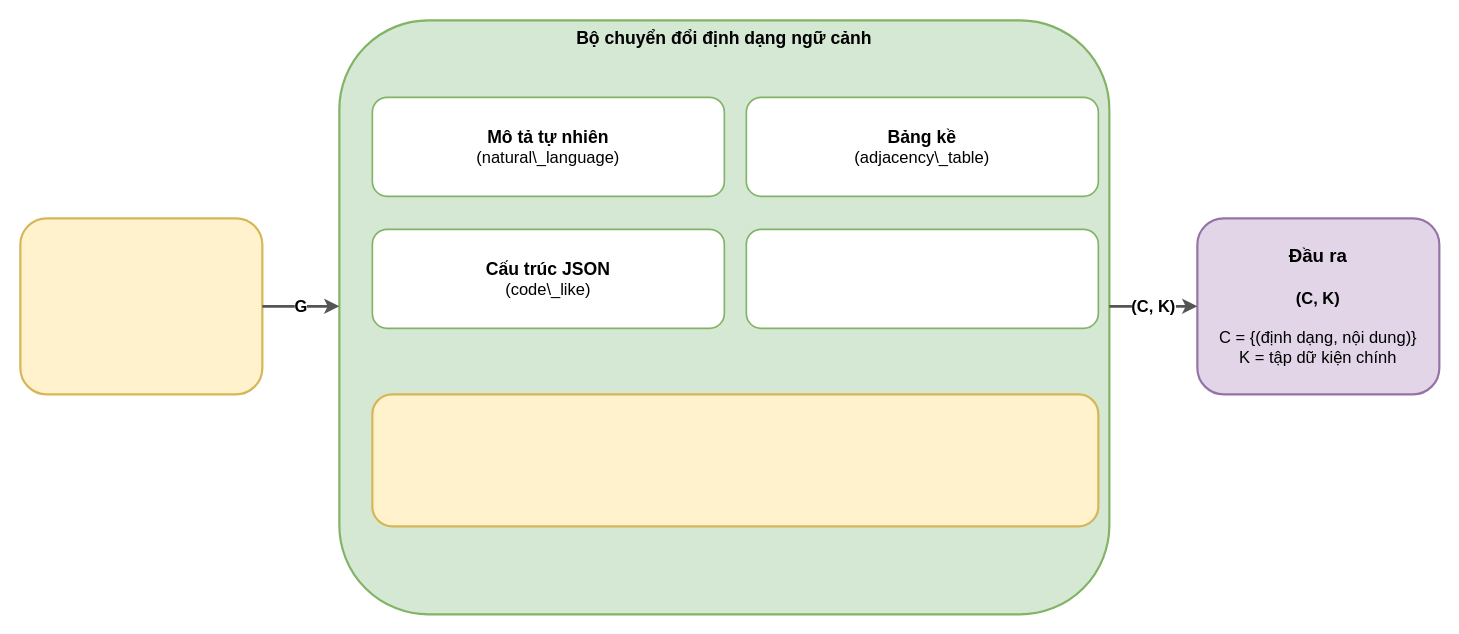
This 1459x634 diagram has some shape labels left out. The box of each missing label's shape, as (x1, y1, x2, y2) in pixels:
Chuỗi nút (node\_sequence): (745, 228, 1099, 329)
Dữ kiện chính K tập mệnh đề ngắn: (371, 393, 1099, 527)
Đầu vào GraphData G {nodes, triplets, paths, subgraph}: (19, 217, 263, 395)
